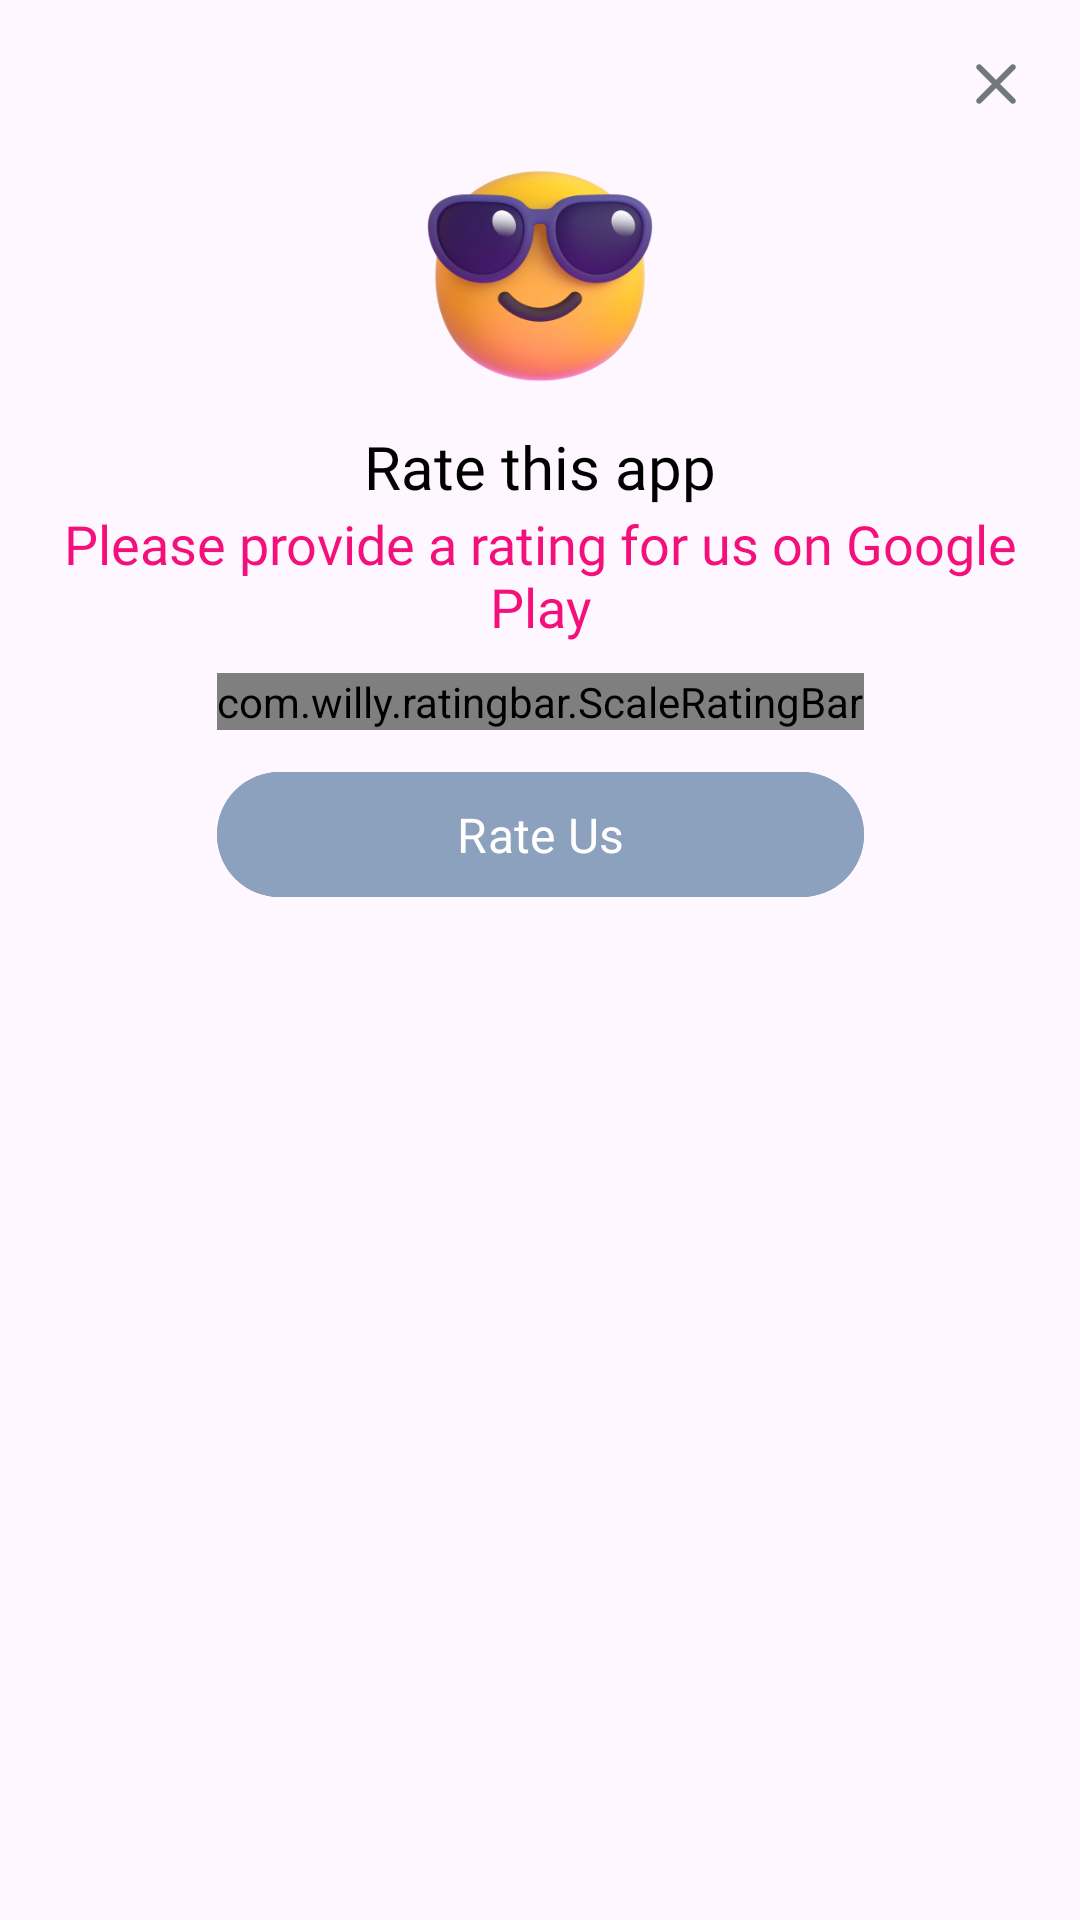

Locate icon controls on the screen. Image size 1080 x 1920, boxes as (x1, y1, x2, y2).
close: (976, 64, 1016, 104)
great review: (428, 171, 652, 381)
